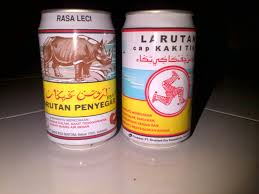metal: (38, 8, 120, 150), (121, 10, 201, 149)
